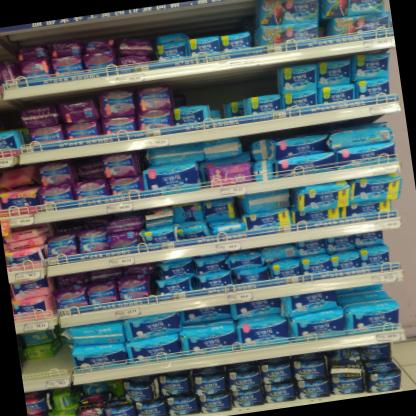empty_space: (20, 358, 67, 384)
